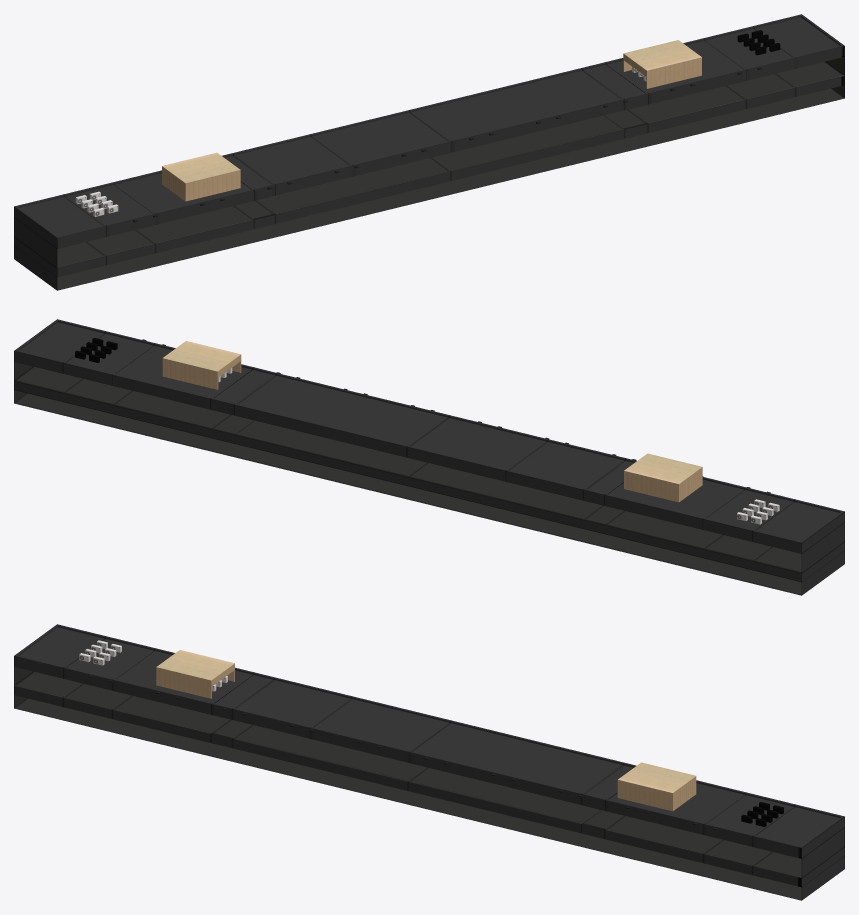
Rendered from connector56.gltf.
3 renders of one model, top to bottom at view 1: azimuth 30°, elevation 25°; view 2: azimuth 150°, elevation 25°; view 3: azimuth 330°, elevation 25°, orthographic.
Visible parts, largest first — view 1: Glass, Cube.001, AC Unit.003, AC Unit; view 2: Glass, Cube.001, AC Unit, AC Unit.003; view 3: Glass, Cube.001, AC Unit, AC Unit.003.
Boxes of the visible parts, x1,y1,x2,y2 form: Glass: (14, 14, 844, 290); Cube.001: (162, 40, 701, 201); AC Unit.003: (75, 191, 118, 216); AC Unit: (737, 30, 780, 55); Glass: (14, 319, 844, 595); Cube.001: (162, 341, 702, 502); AC Unit: (75, 337, 117, 362); AC Unit.003: (737, 499, 779, 524); Glass: (14, 624, 844, 900); Cube.001: (156, 650, 696, 811); AC Unit: (741, 802, 783, 826); AC Unit.003: (79, 640, 121, 665).
Bounding box in the file's own units: 200 × 16.81 × 19.67.
